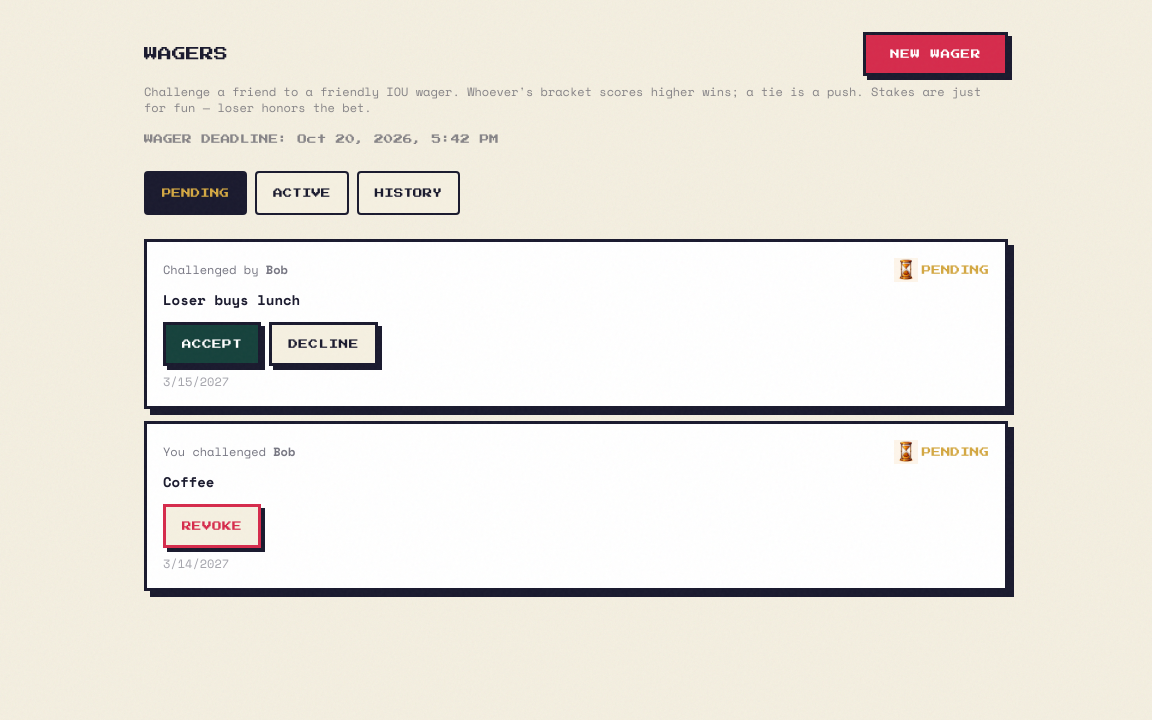
it: WagersClient › shows the API error when creation fails
The width and height of the screenshot is (1152, 720).
Click the button "New Wager": (936, 54) [863,32,1008,76]
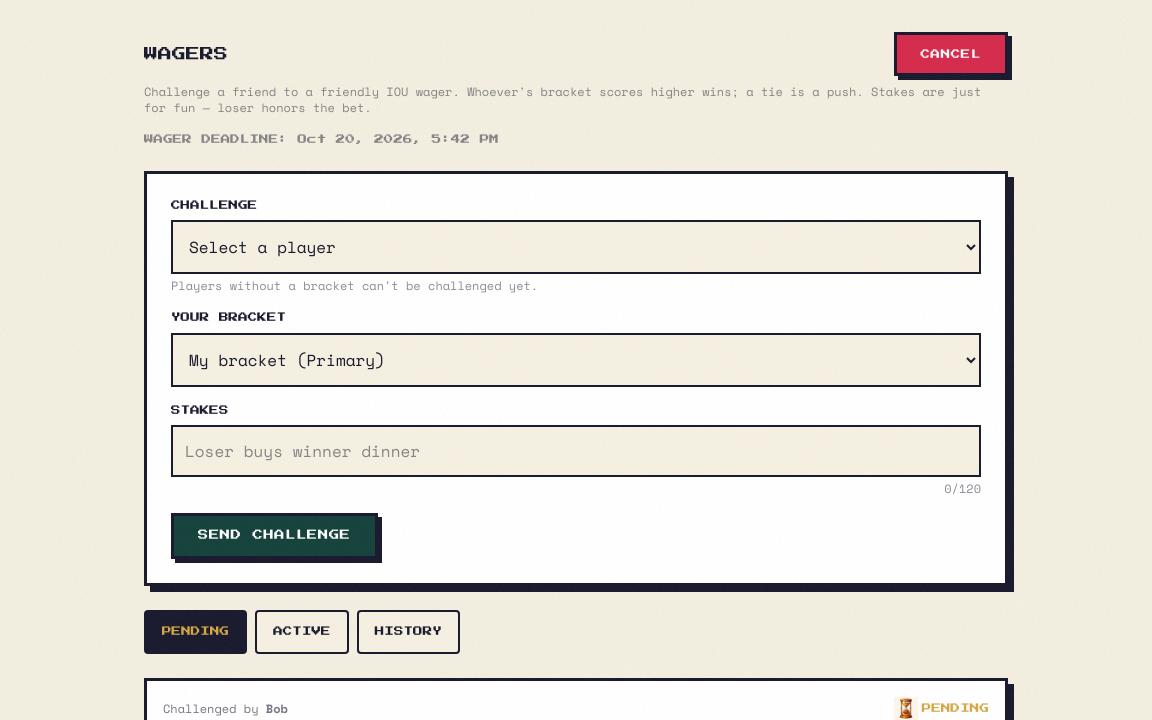
Select "Bob" in the dropdown labelled "CHALLENGE": (576, 247) [171,220,981,274]
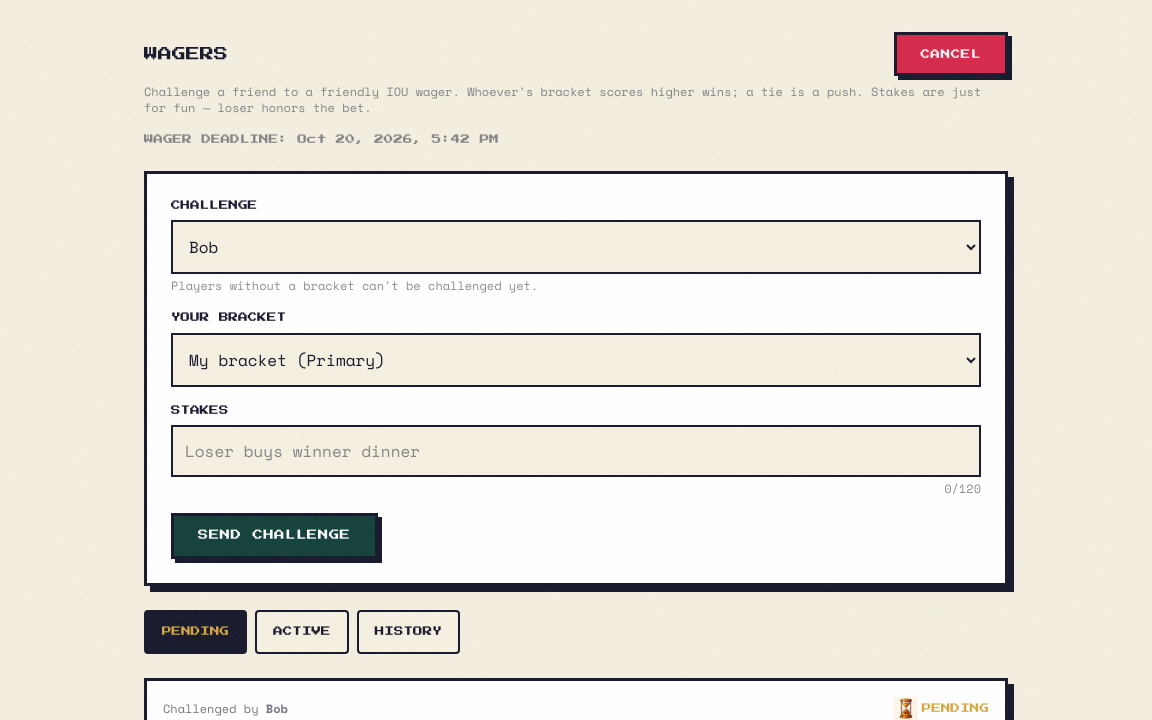
In the field labelled "STAKES": (576, 451) [171,425,981,477], type "Pizza"
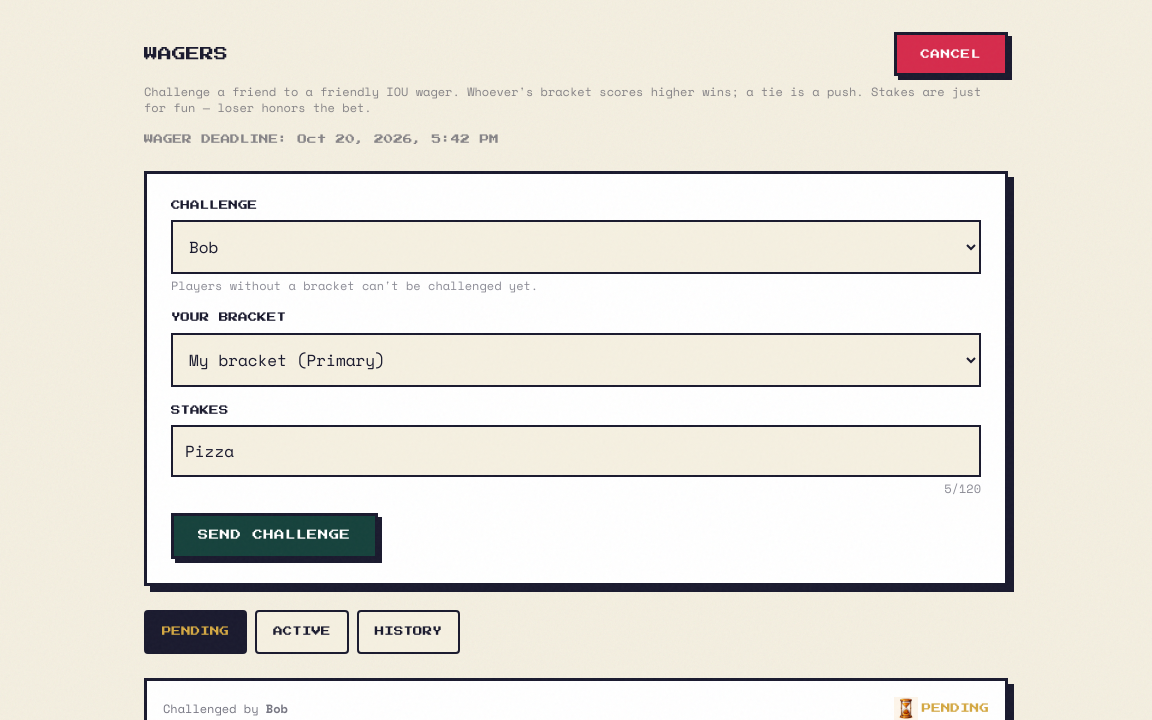
Click the button "Send Challenge": (274, 536) [171,513,378,559]
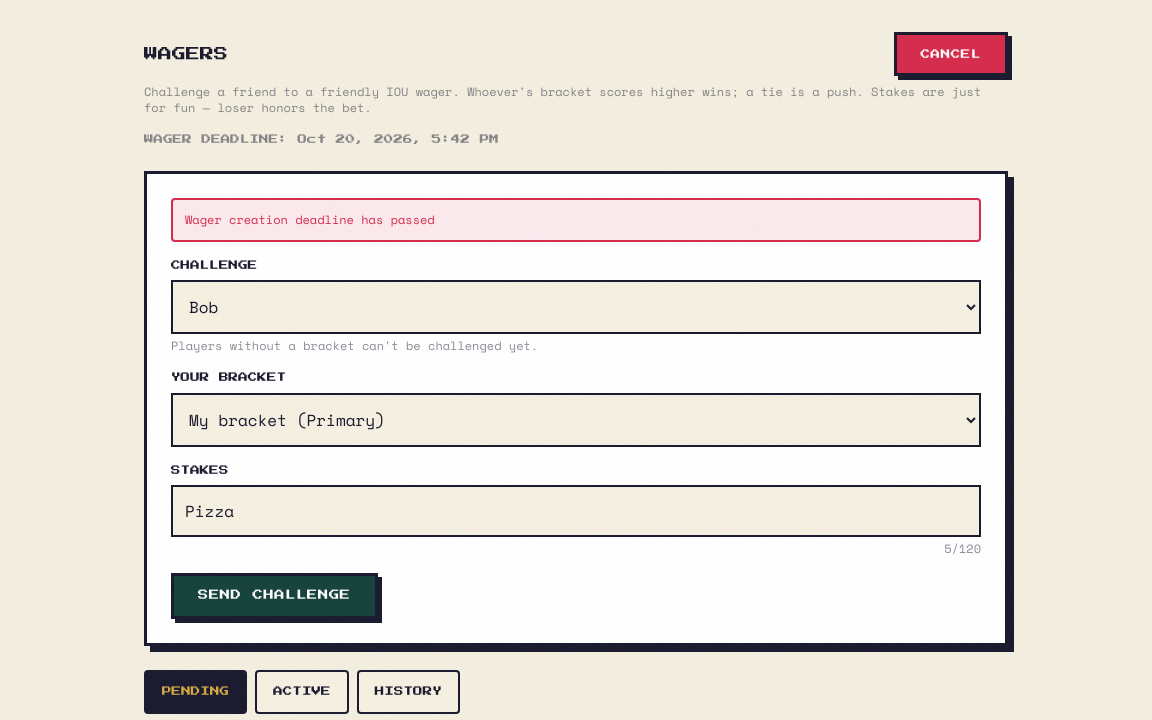
Now the message reads "Wager creation deadline has passed", box [185,211,435,228]
